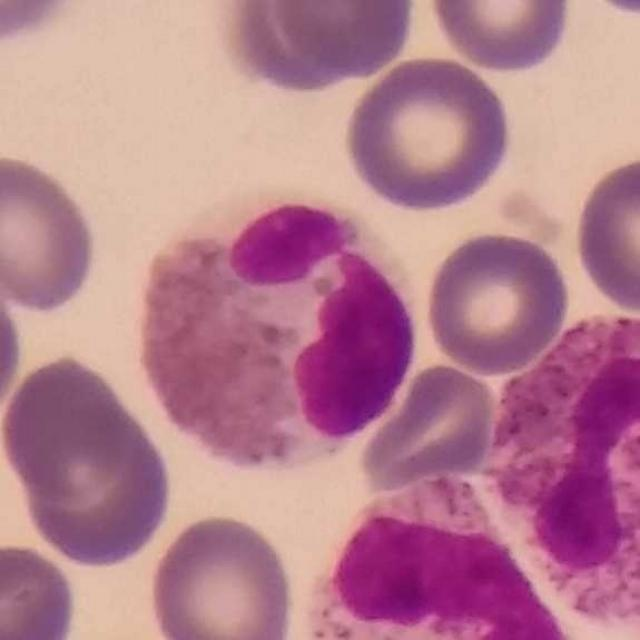Eosinophil: (119, 186, 425, 489), (488, 310, 639, 632), (305, 468, 561, 640)
RBC: (0, 347, 178, 570), (280, 233, 423, 452), (340, 52, 516, 215), (421, 226, 573, 377), (143, 508, 299, 640), (354, 360, 502, 496), (0, 148, 102, 316), (207, 0, 374, 98), (268, 0, 420, 81), (569, 152, 640, 318), (425, 0, 577, 76), (0, 537, 81, 640), (0, 0, 92, 52), (0, 306, 27, 413), (579, 0, 640, 21)
